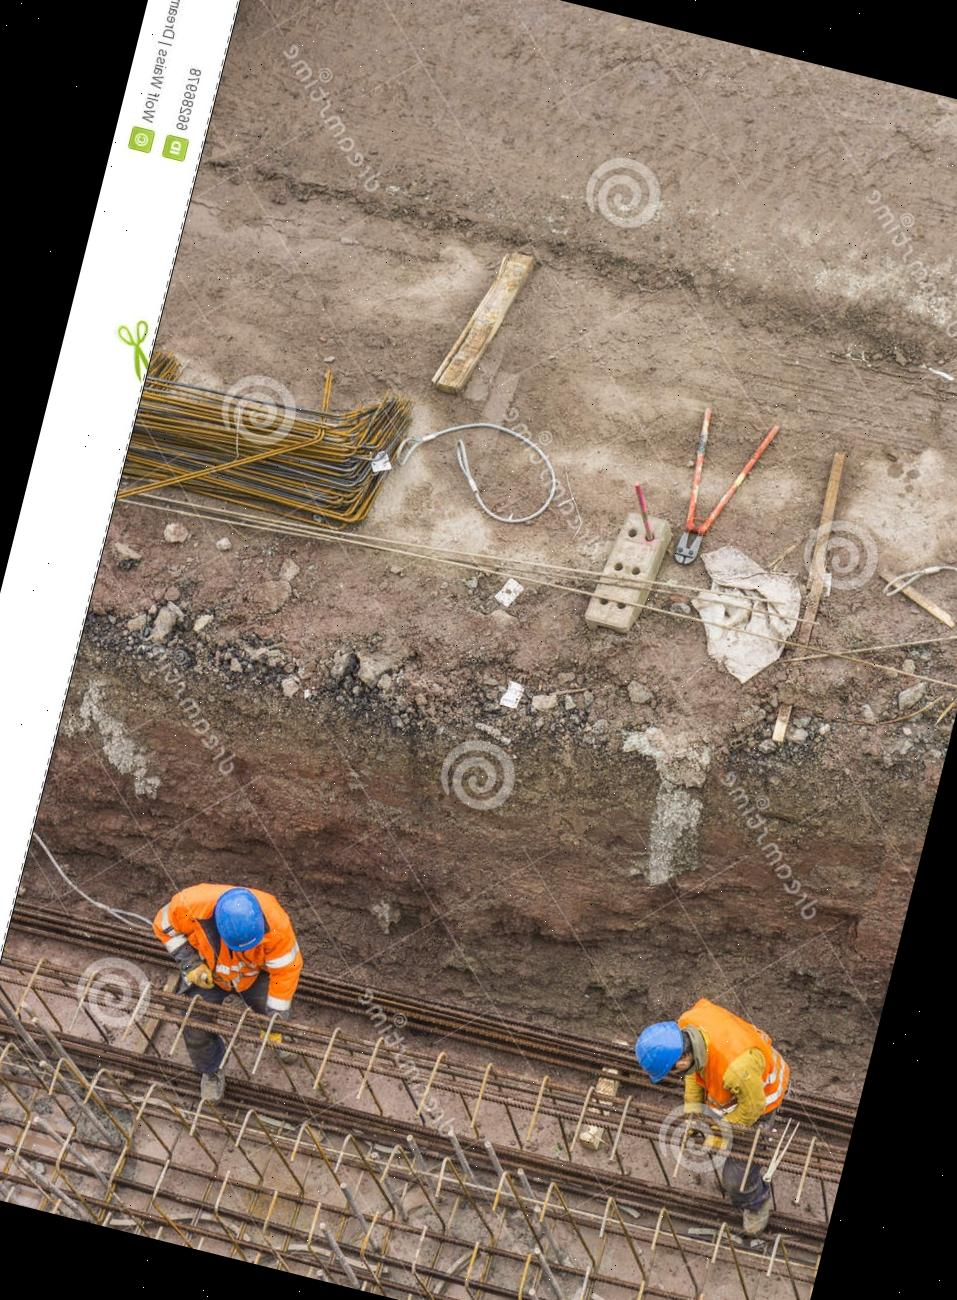helmet: (204, 884, 274, 960), (624, 1017, 686, 1093)
wear: (672, 1001, 804, 1120), (156, 930, 299, 1006)
